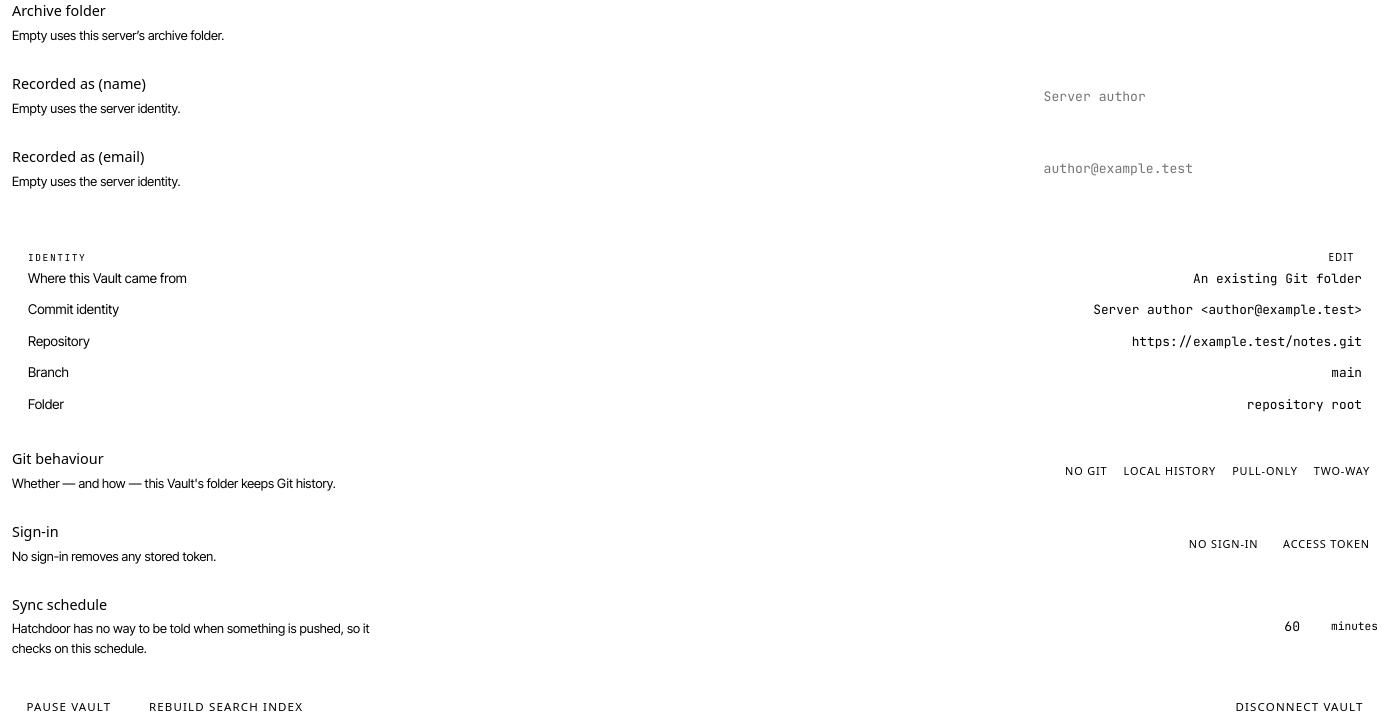
Test: VaultSettingsDetail — the Git behaviour control › saves a plain mode swap on an owned folder as a single PATCH, no confirmation
(page scrolled)
Click the button "Two-way".
click(1342, 471)  # box [1306, 457, 1378, 485]
(page scrolled)
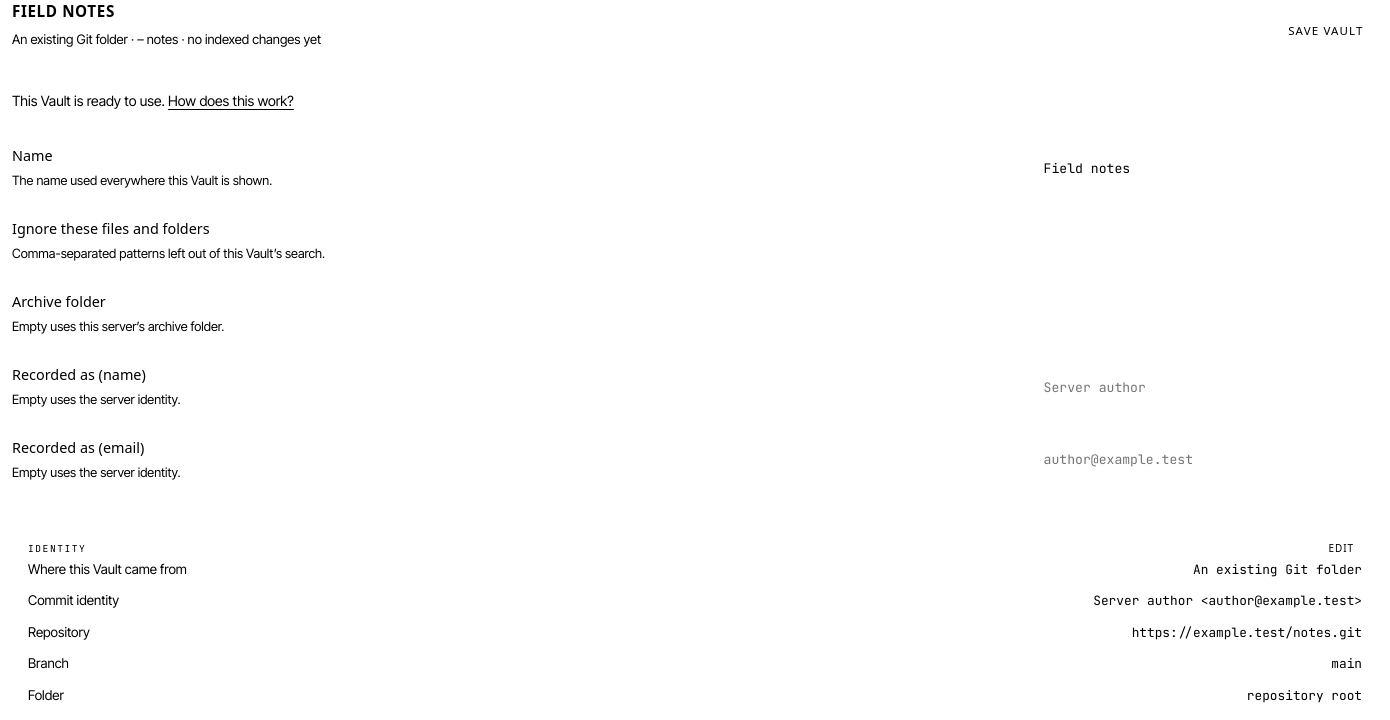
Click the button "Save Vault".
click(1326, 31)  # box [1274, 16, 1378, 45]
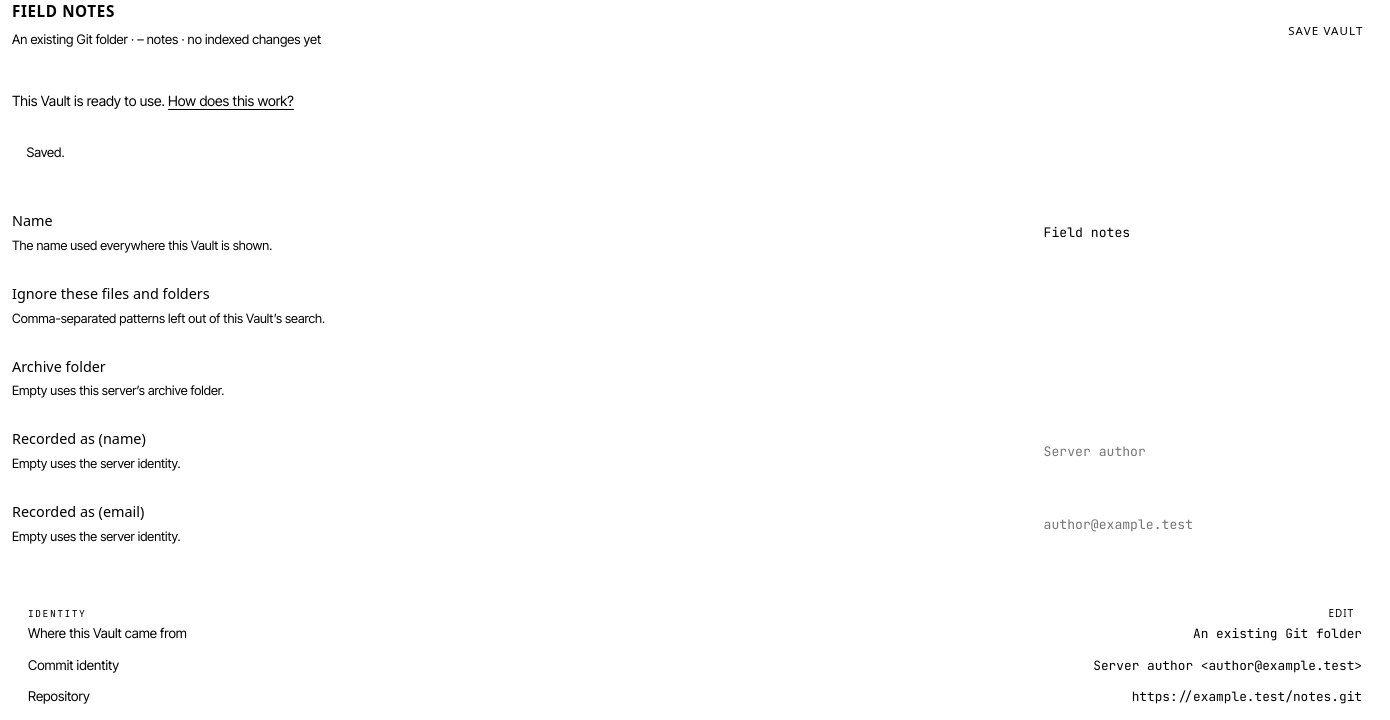
Expected: the text "https://example.test/notes.git" is shown, [1132, 688, 1362, 707]
Result: the text "Saved." is shown at [26, 144, 65, 160]
